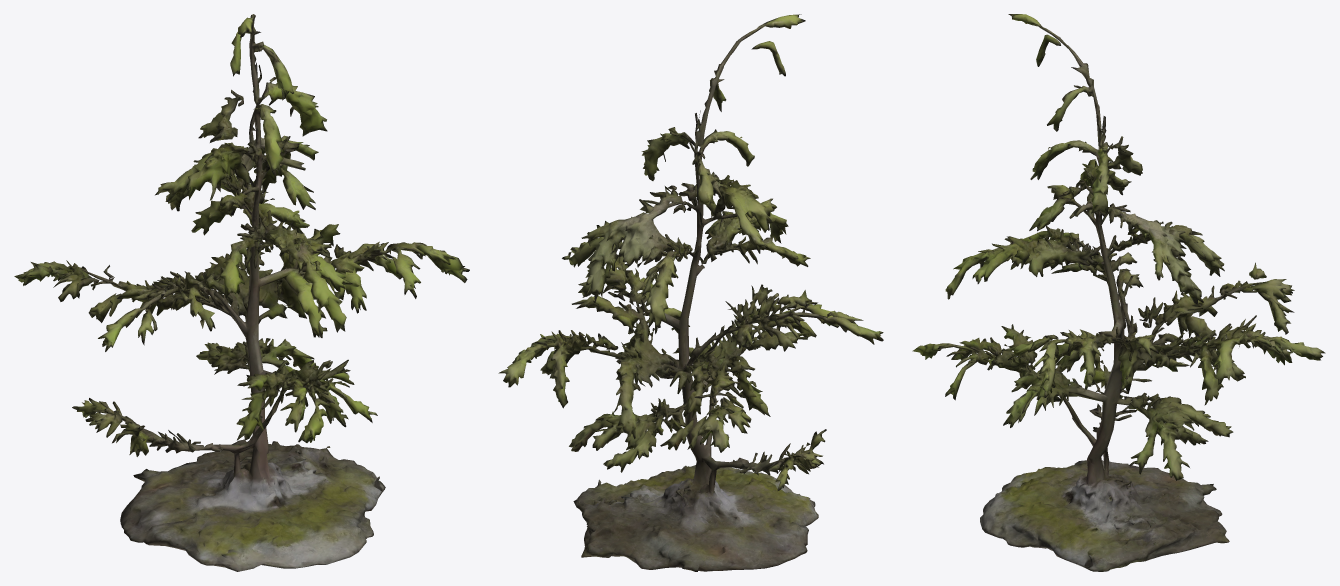
File: tree_hemlock_sapling_natural.glb
3 renders of one model, left to right at view 1: azimuth 30°, elevation 25°; view 2: azimuth 150°, elevation 25°; view 3: azimuth 270°, elevation 25°, orthographic. The views are drawn at different scales.
Bounding box in the file's own units: 1.4 × 2 × 1.56.
1 material, 1 textured.
